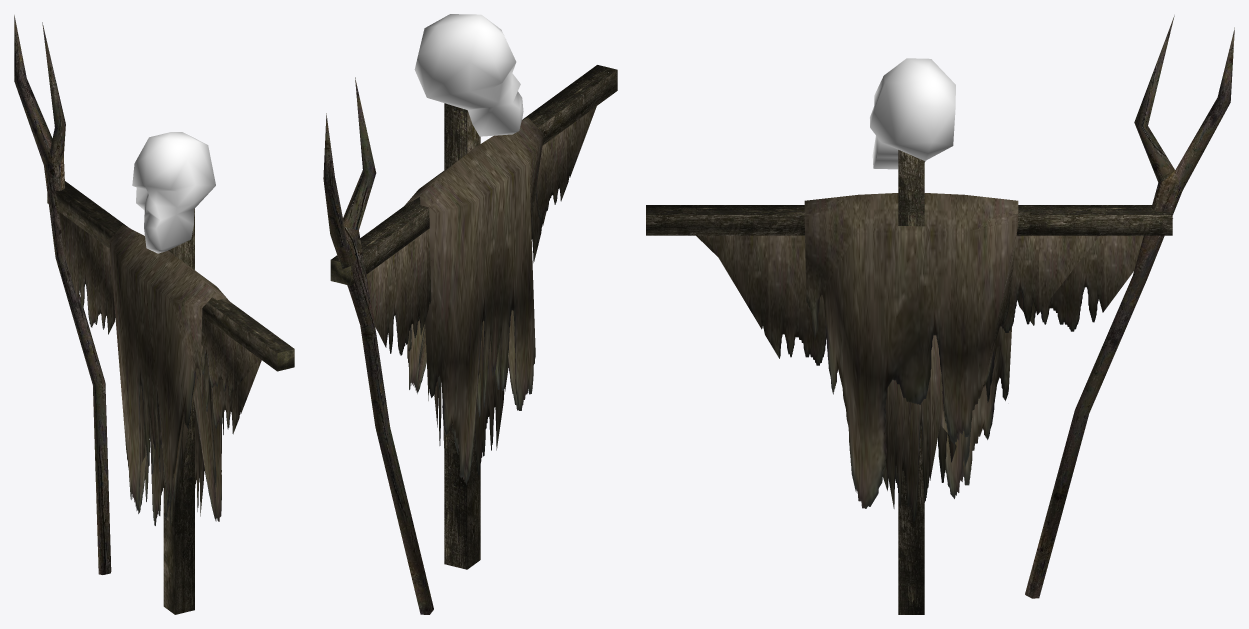
File: NC_BIRDFRIGHTENER.glb
3 views of the same model, side by side, from view 1: azimuth 30°, elevation 25°; view 2: azimuth 150°, elevation 25°; view 3: azimuth 270°, elevation 25° (orthographic). The views are drawn at different scales.
Visible parts, largest first — view 1: Mesh; view 2: Mesh; view 3: Mesh.
Boxes of the visible parts, bbox=[...] form: Mesh: bbox=[14, 15, 294, 614]; Mesh: bbox=[323, 14, 617, 614]; Mesh: bbox=[646, 15, 1234, 614].
Bounding box in the file's own units: 0.3742 × 2.44 × 2.24.
Materials: 5 (4 with a texture image).
